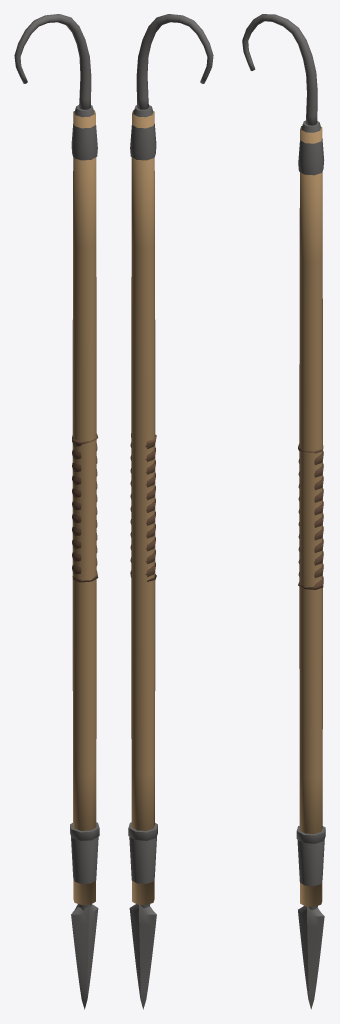
Rendered from boarding-gaff.glb.
3 renders of one model, left to right at view 1: azimuth 30°, elevation 25°; view 2: azimuth 150°, elevation 25°; view 3: azimuth 330°, elevation 25°, orthographic.
Parts seen in each view (by area): view 1: boarding-gaff; view 2: boarding-gaff; view 3: boarding-gaff.
Part boxes in pixels (box(x1,y1,x2,y2)): boarding-gaff: box(14, 14, 99, 1009); boarding-gaff: box(128, 14, 213, 1009); boarding-gaff: box(242, 14, 325, 1009).
Bounding box in the file's own units: 0.3111 × 3.57 × 0.0991.
